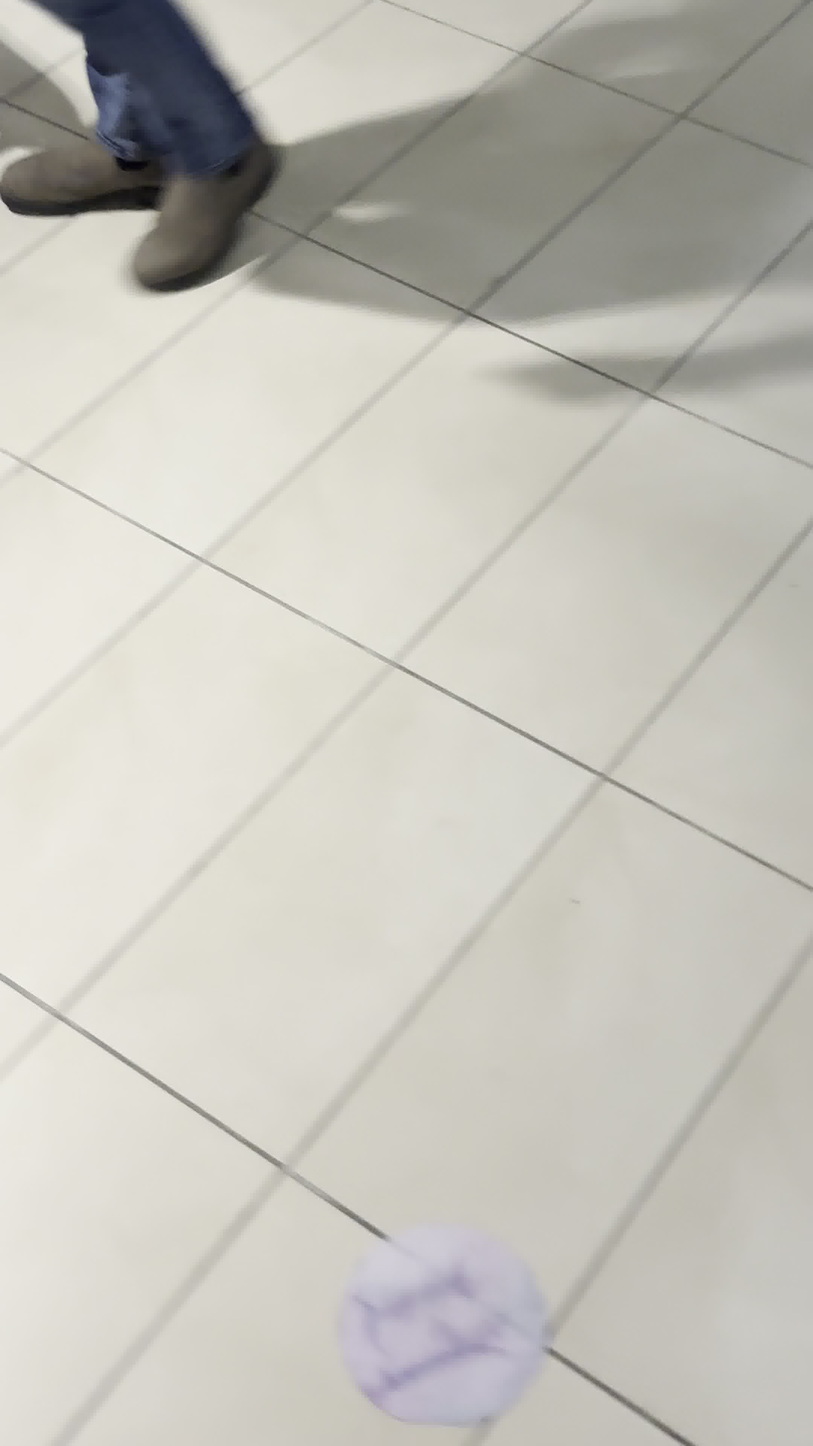Target: (336, 1231, 545, 1427)
